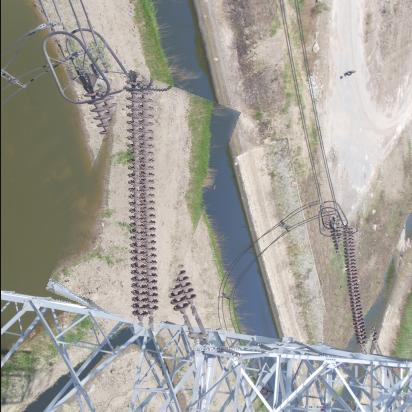insulator: (65, 78, 222, 327), (324, 227, 389, 354)
